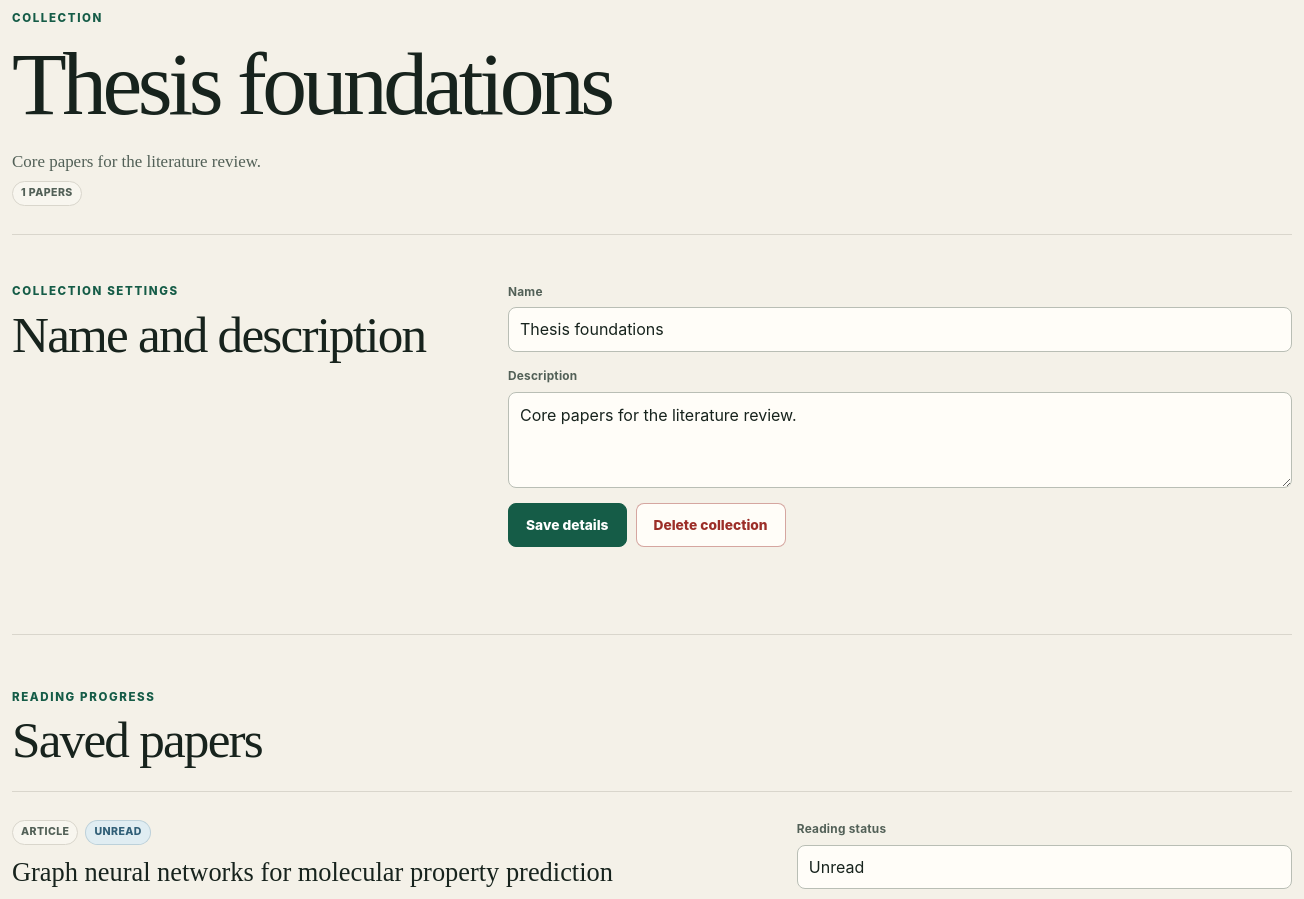
Test: CollectionManager › leaves the deletion fence in place when the server result is unknown
This screenshot has width=1304, height=899.
What coordinates should you click on to do the following:
click the button "Delete collection"
I would click on:
 (711, 525)
Its box is [636, 503, 786, 547].
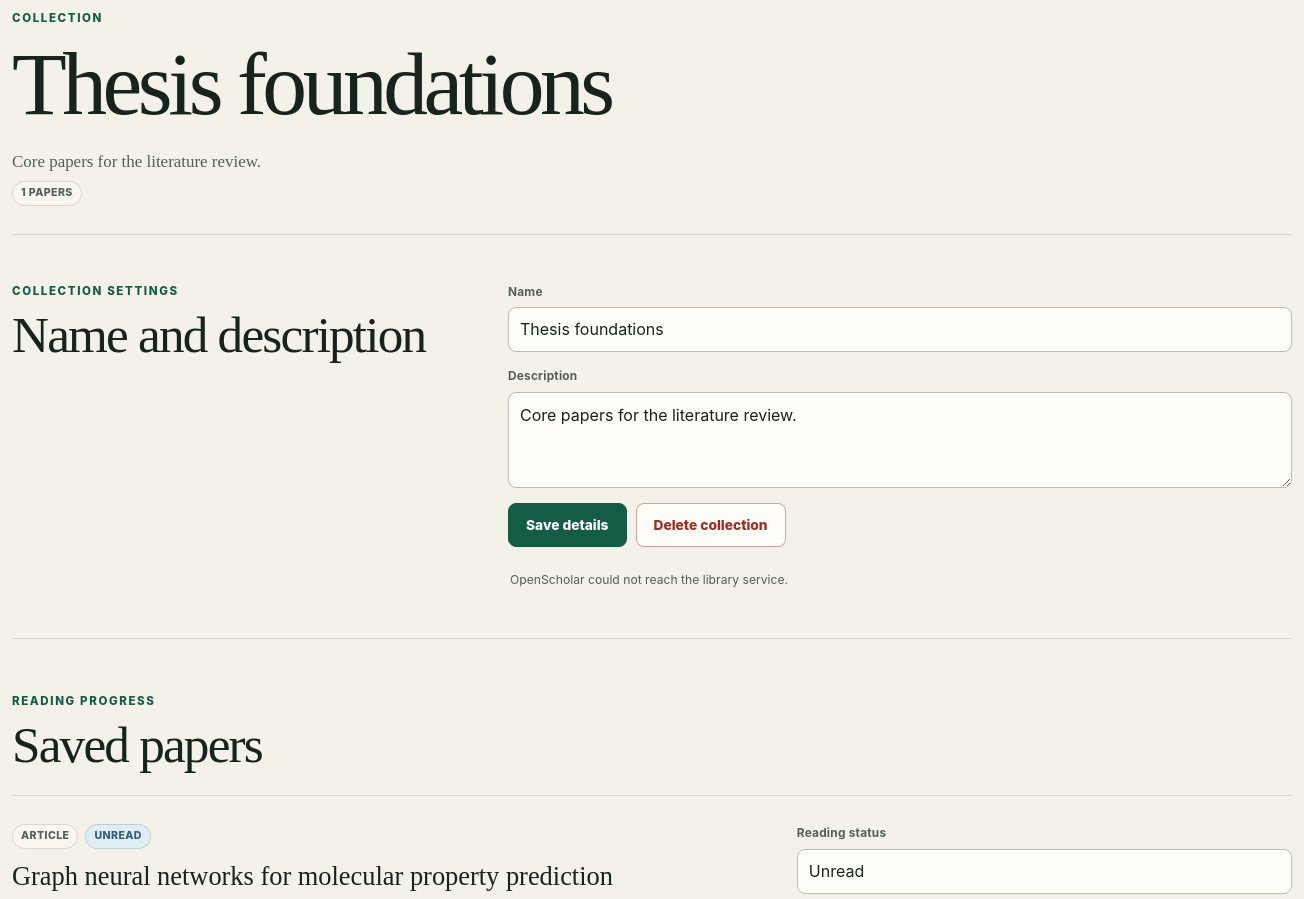
Result: the text "OpenScholar could not reach the library service." is shown at [510, 572, 788, 587]
